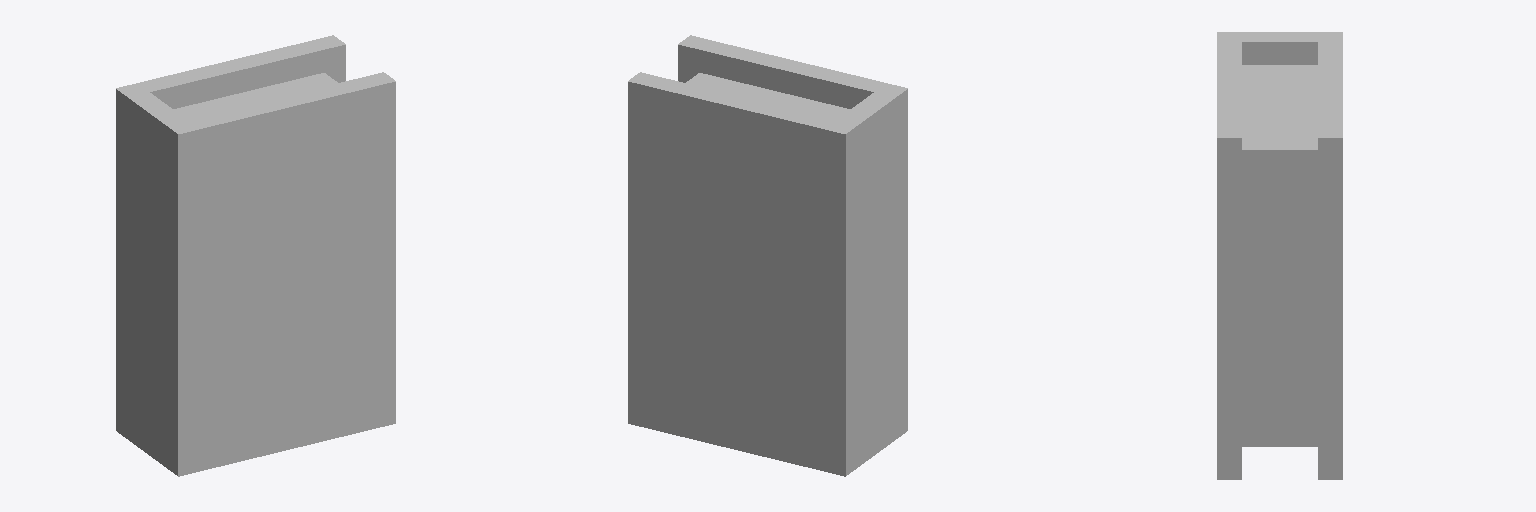
File: Book5.obj
3 renders of one model, left to right at view 1: azimuth 30°, elevation 25°; view 2: azimuth 150°, elevation 25°; view 3: azimuth 270°, elevation 25°, orthographic.
Visible parts, largest first — view 1: object 1; view 2: object 1; view 3: object 1.
Boxes of the visible parts, x1,y1,x2,y2 form: object 1: [116, 35, 395, 476]; object 1: [628, 35, 907, 476]; object 1: [1217, 32, 1342, 479].
Bounding box in the file's own units: 1 × 1.5 × 0.5.